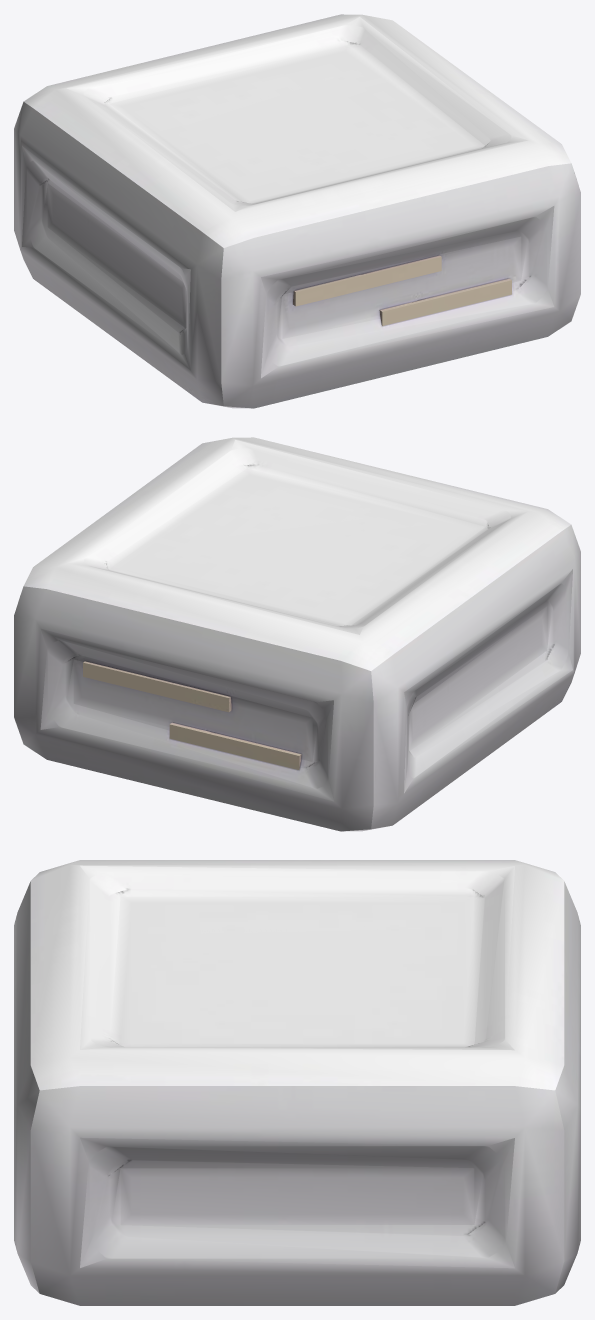
Rendered from kalas1.glb.
3 renders of one model, top to bottom at view 1: azimuth 30°, elevation 25°; view 2: azimuth 150°, elevation 25°; view 3: azimuth 270°, elevation 25°, orthographic. The views are drawn at different scales.
Visible parts, largest first — view 1: kalas1; view 2: kalas1; view 3: kalas1.
Boxes of the visible parts, left/top/right/bottom form: kalas1: left=14, top=14, right=580, bottom=408; kalas1: left=14, top=437, right=580, bottom=831; kalas1: left=14, top=860, right=580, bottom=1305.
Size of the model in its own units: 1.52 by 0.7402 by 1.52.
1 material, 1 textured.
